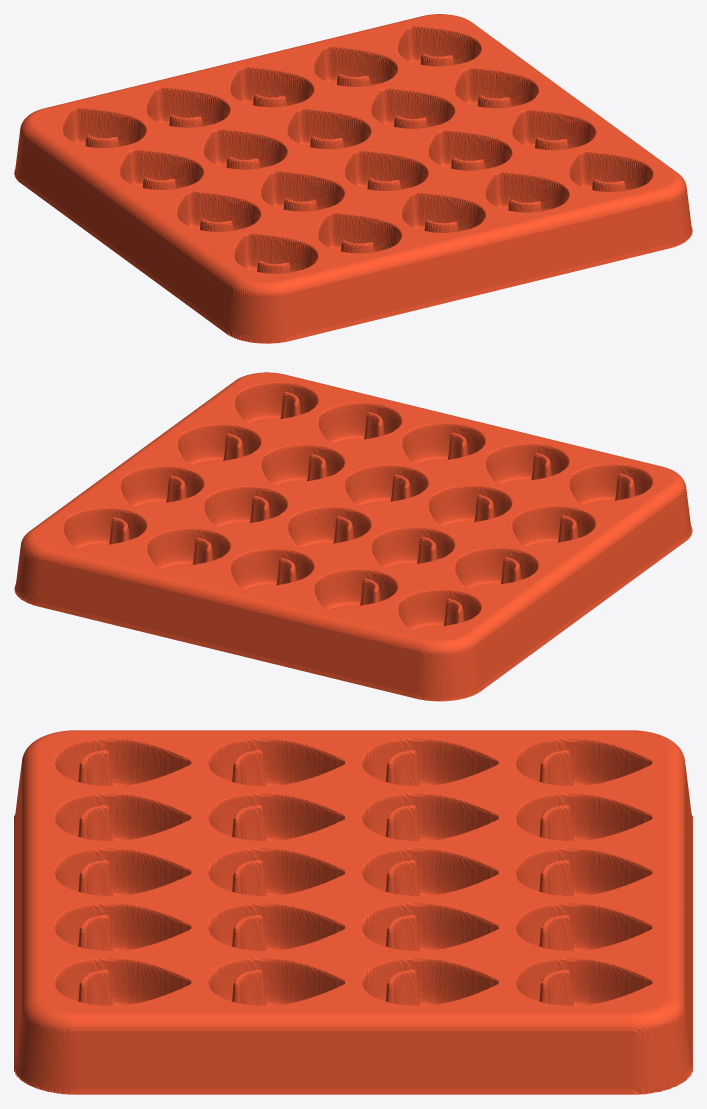
The model's file is mold.glb.
3 renders of one model, top to bottom at view 1: azimuth 30°, elevation 25°; view 2: azimuth 150°, elevation 25°; view 3: azimuth 270°, elevation 25°, orthographic. The views are drawn at different scales.
Parts seen in each view (by area): view 1: geometry_0; view 2: geometry_0; view 3: geometry_0.
Part boxes in pixels (left/top/right/bottom): geometry_0: left=14, top=14, right=692, bottom=343; geometry_0: left=14, top=372, right=692, bottom=701; geometry_0: left=14, top=730, right=692, bottom=1094.
Bounding box in the file's own units: 0.1022 × 0.0114 × 0.0972.
